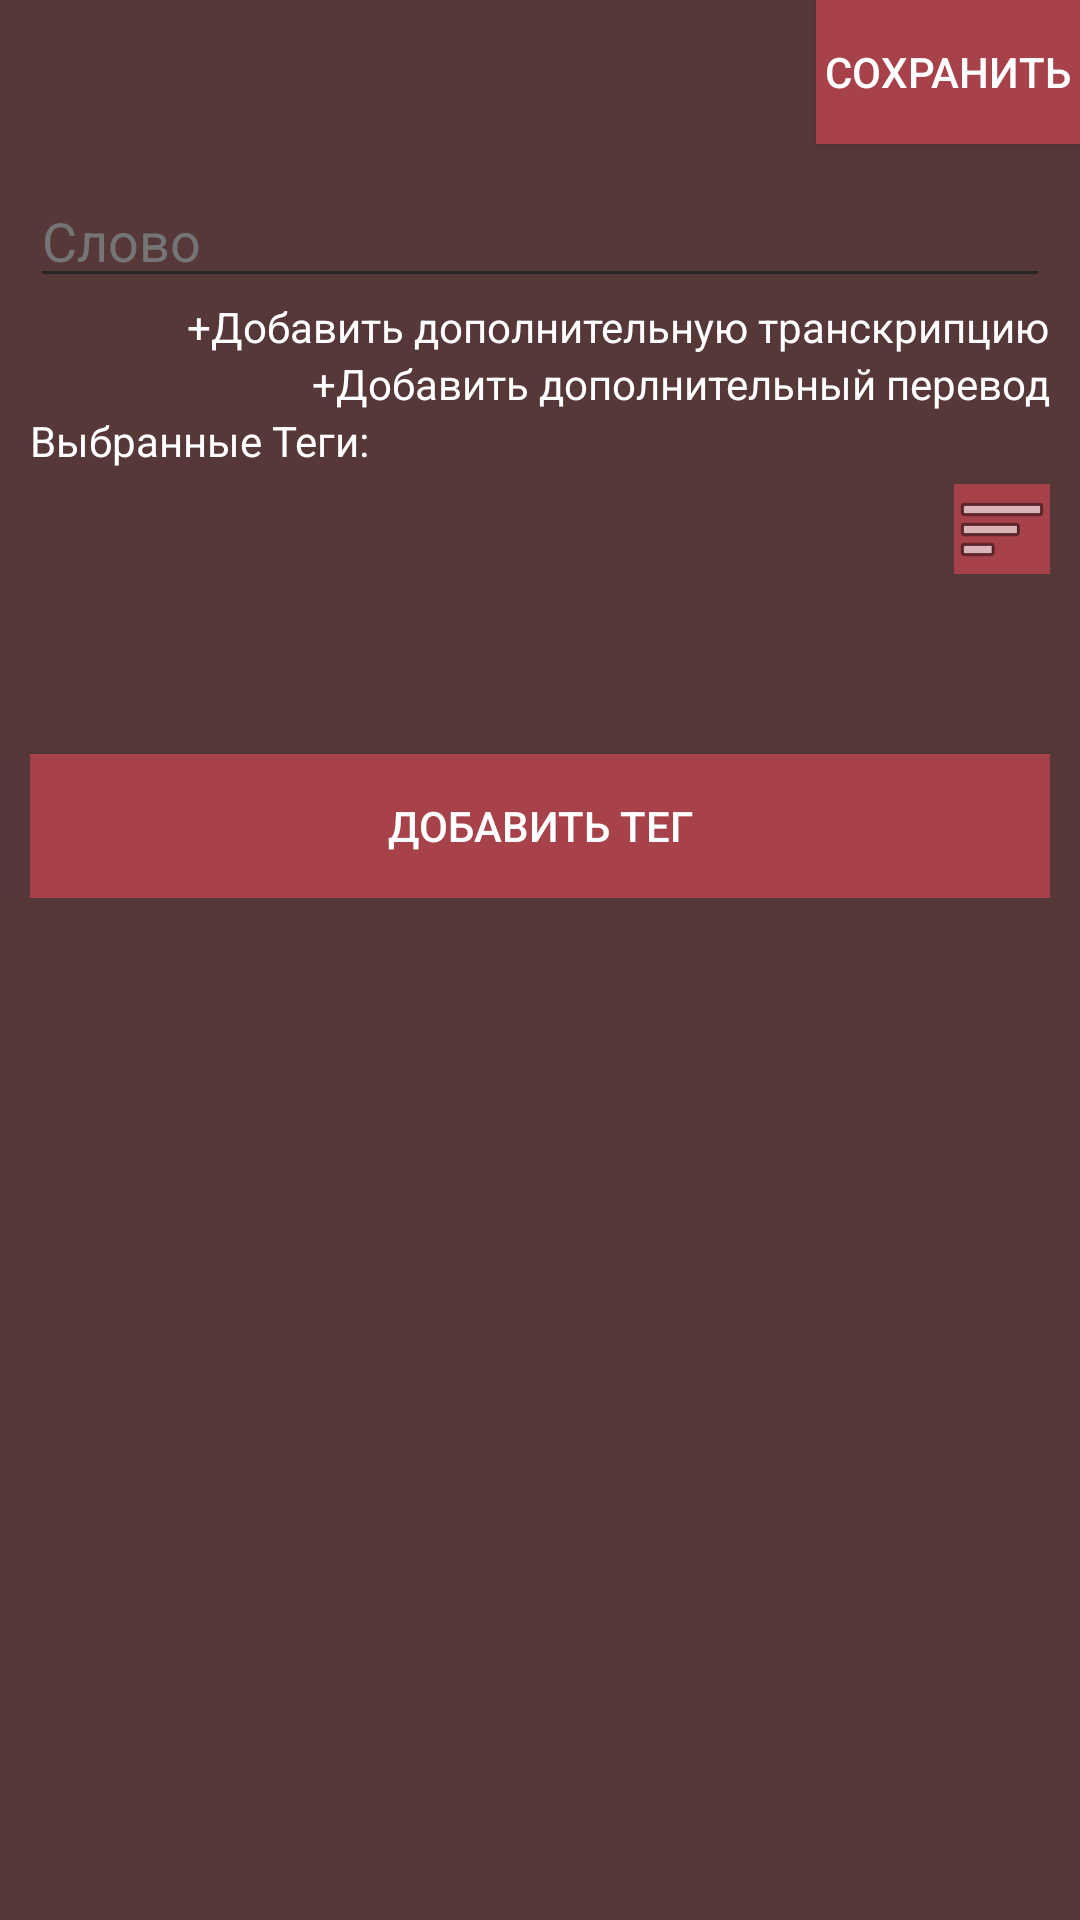

Locate icon controls on the screen. Image size 1080px x 1920px, boxes as (x1, y1, x2, y2).
sort by size: (954, 484, 1050, 574)
